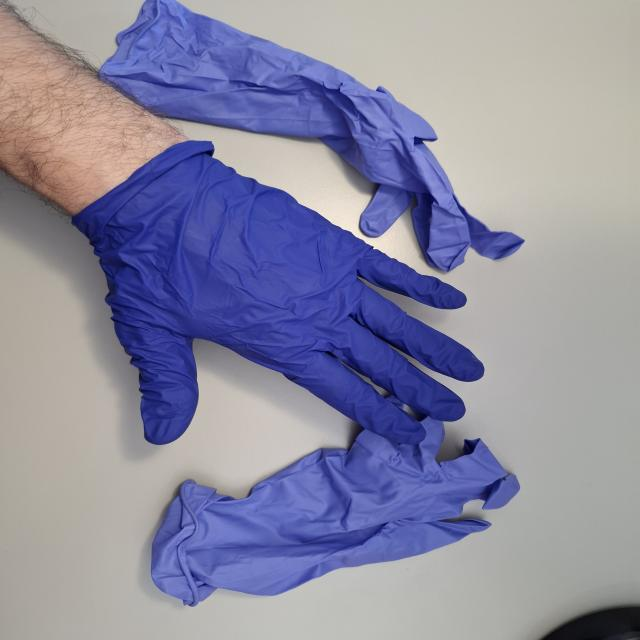glove_on: (68, 135, 489, 448)
